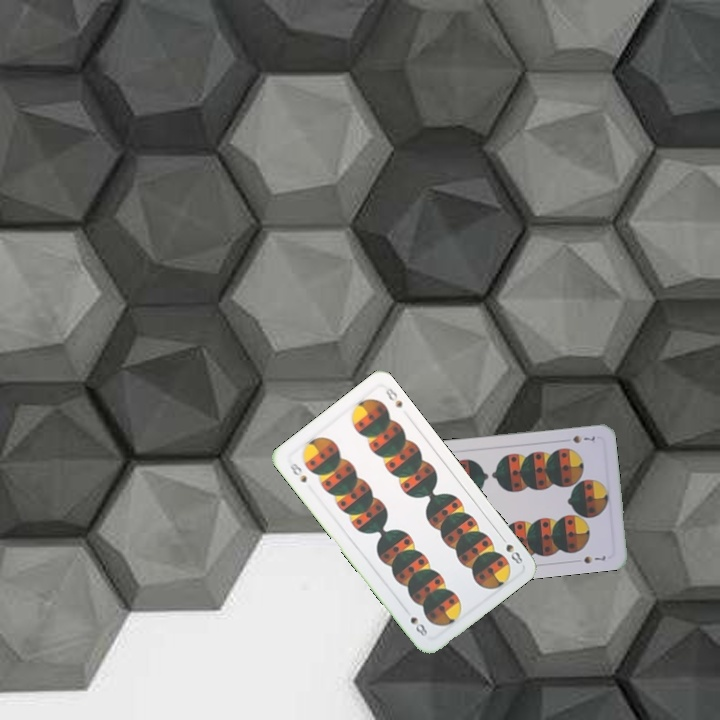S7: (569, 431, 599, 446)
S8: (496, 531, 525, 568), (286, 459, 309, 485)
